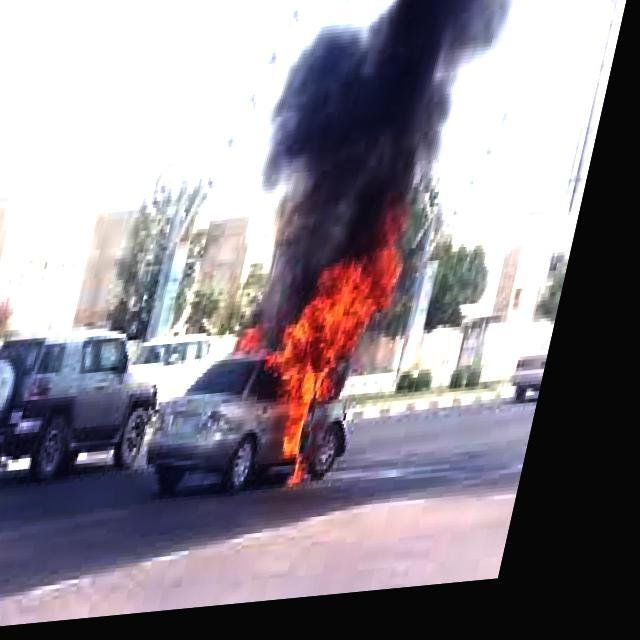Fire: (238, 206, 440, 501)
